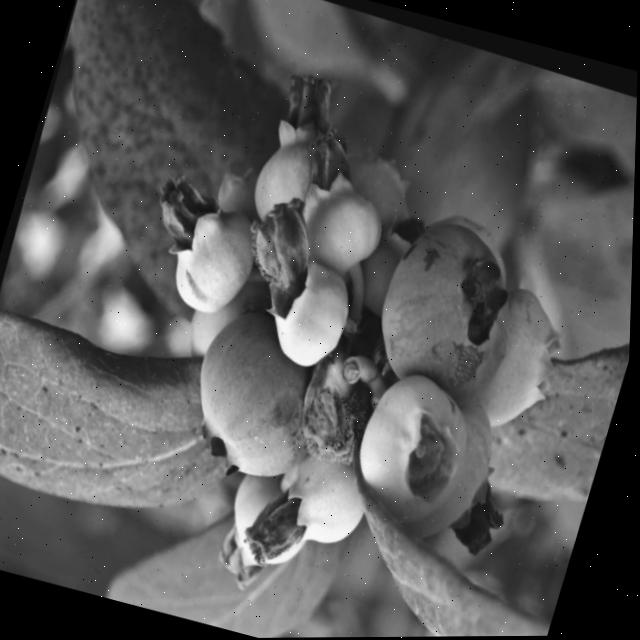RipeBlueBerry: (354, 198, 543, 413), (169, 293, 344, 494)
UnripeBlueBerry: (341, 357, 491, 529), (240, 236, 366, 376), (150, 180, 273, 321)
